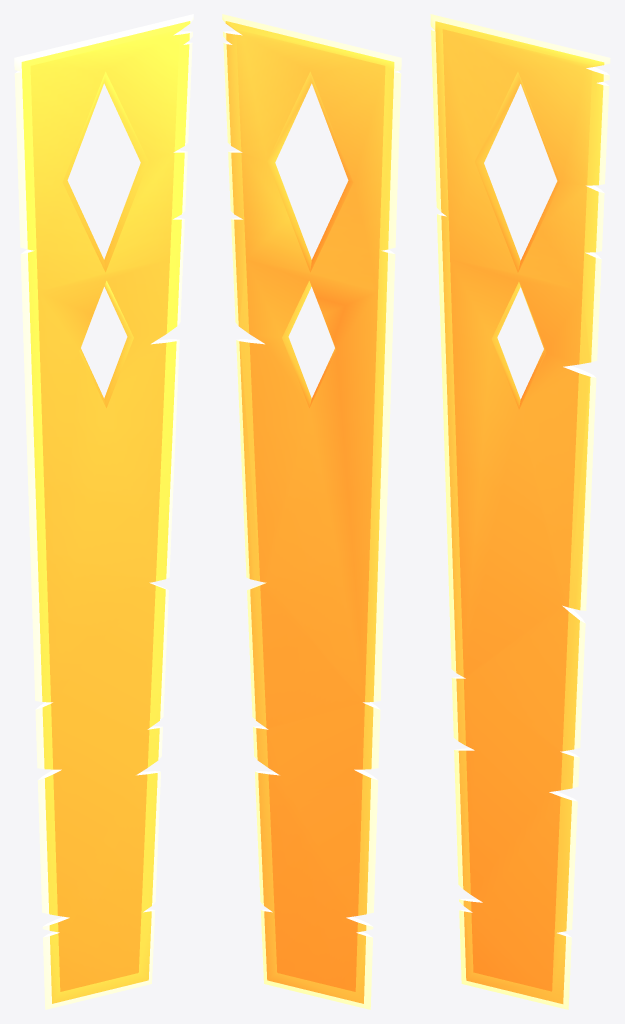
Rendered from gold_blade_scratched_061.glb.
The picture shows the model from 3 angles, left to right: view 1: azimuth 30°, elevation 25°; view 2: azimuth 150°, elevation 25°; view 3: azimuth 330°, elevation 25°; orthographic projection.
Visible parts, largest first — view 1: gold_blade_scratched.061; view 2: gold_blade_scratched.061; view 3: gold_blade_scratched.061.
Part boxes in pixels (x1,y1,x2,y2): gold_blade_scratched.061: [14, 14, 193, 1009]; gold_blade_scratched.061: [222, 14, 401, 1009]; gold_blade_scratched.061: [430, 14, 610, 1009].
Bounding box in the file's own units: 2.19 × 11.21 × 0.0882.
1 material, 1 textured.
